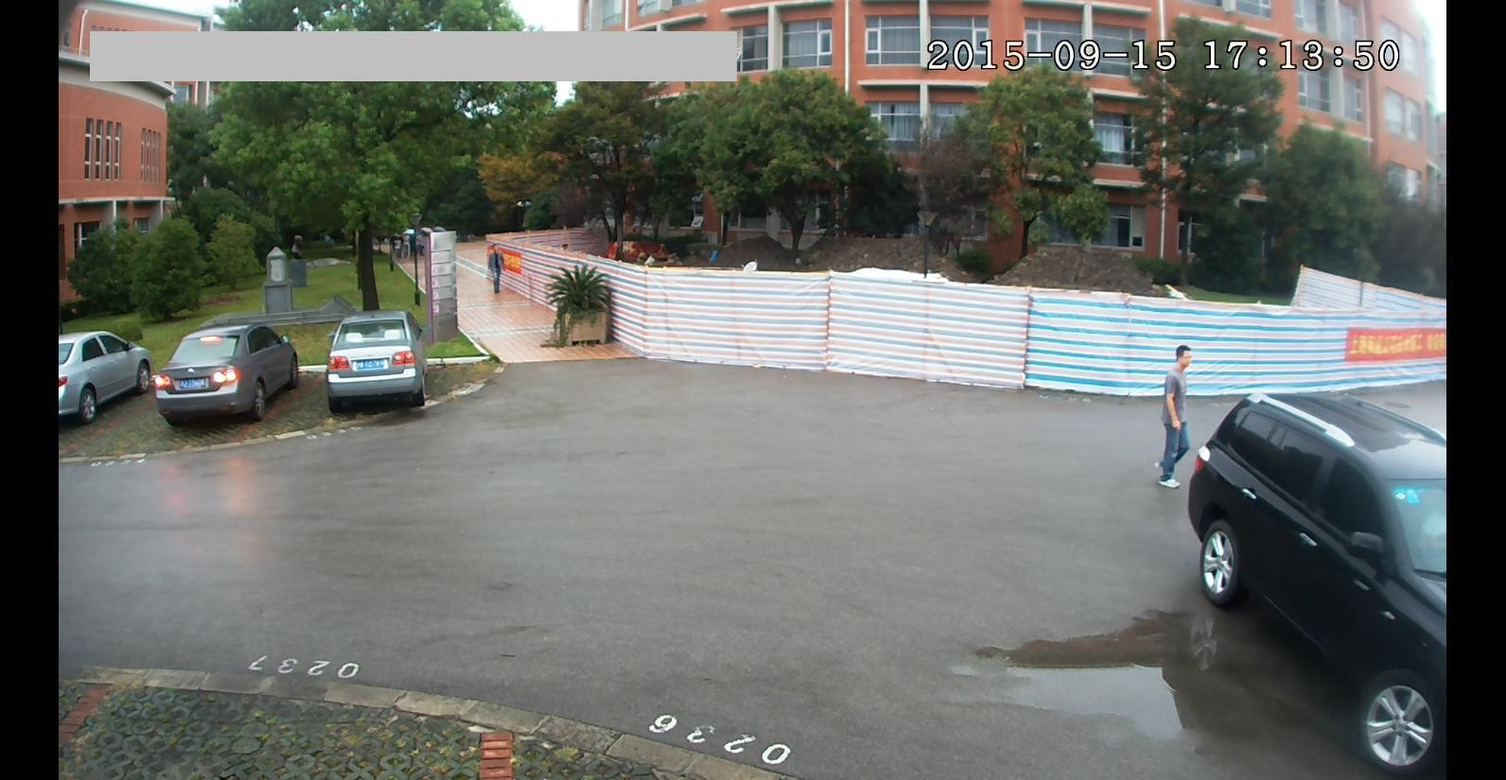person: (1150, 342, 1195, 489)
